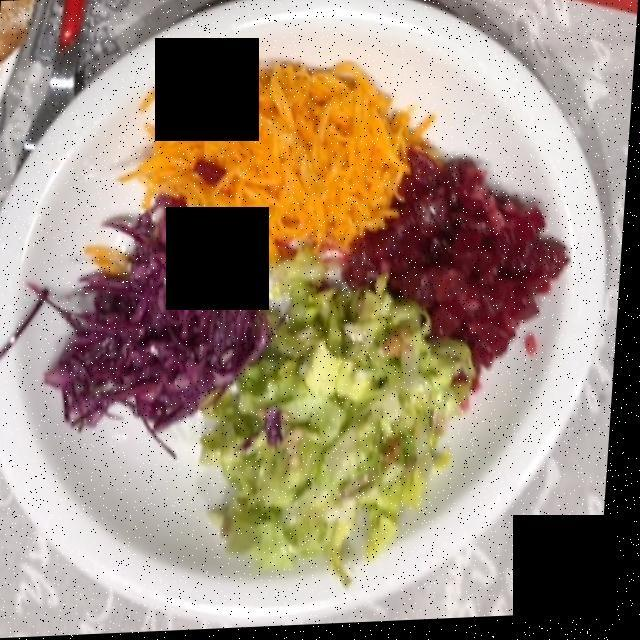beetroot: (325, 175, 568, 403)
cabbage: (59, 216, 264, 423)
carrot: (136, 63, 421, 257)
salad: (209, 292, 472, 575)
